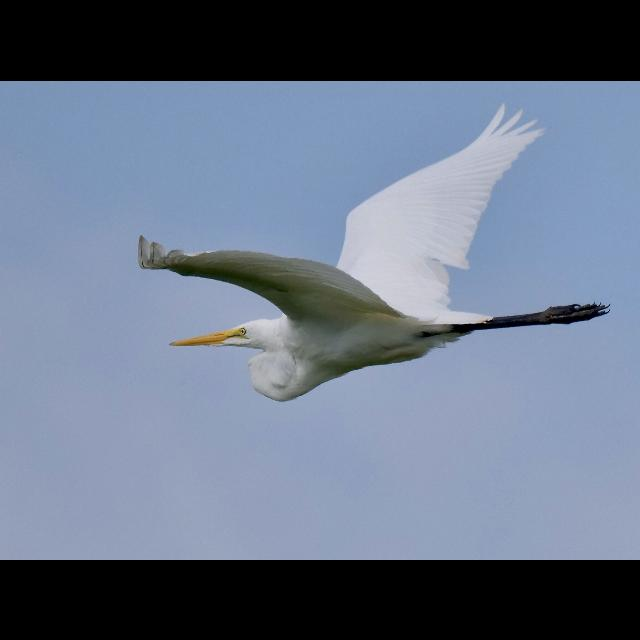egret: (138, 108, 610, 402)
